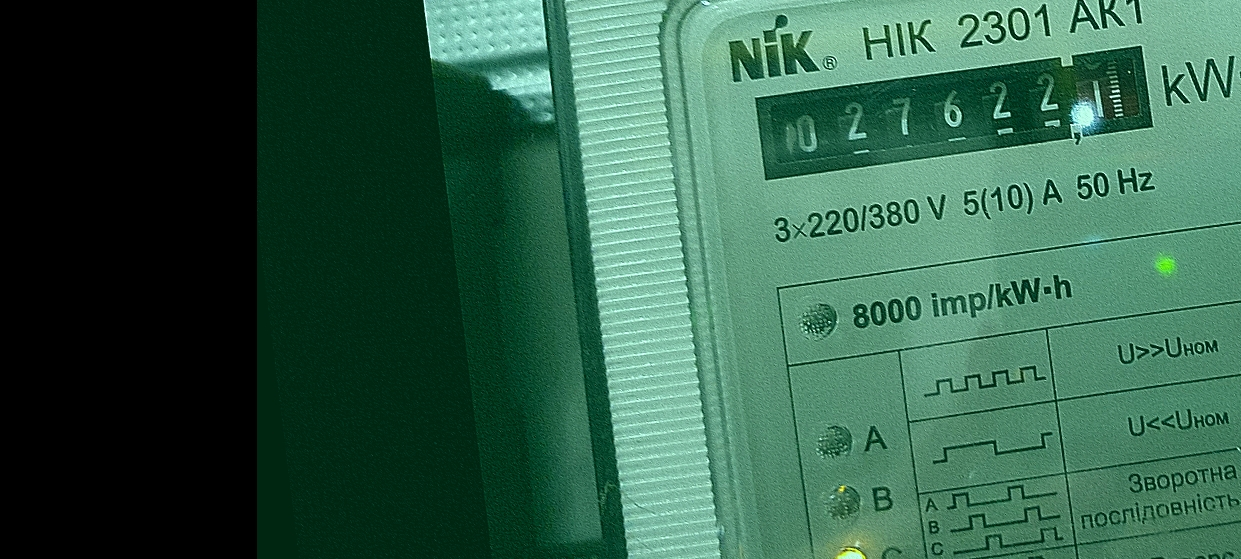0: (793, 111, 822, 156)
1: (1088, 76, 1109, 121)
2: (842, 99, 871, 144), (986, 78, 1015, 122), (1035, 70, 1062, 114)
6: (939, 88, 966, 131)
7: (890, 95, 919, 140)
screen: (742, 34, 1169, 189)
